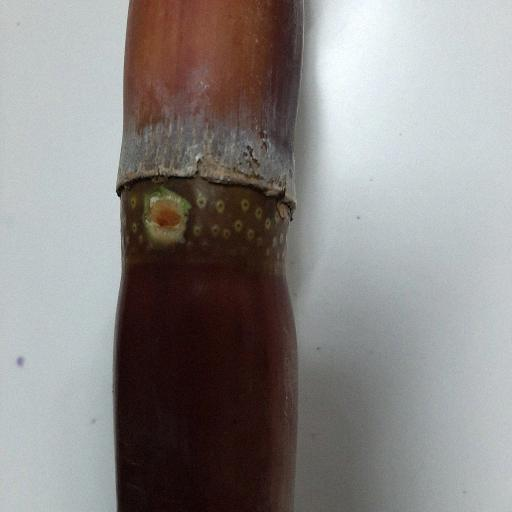Damage_Bud: (141, 190, 192, 249)
